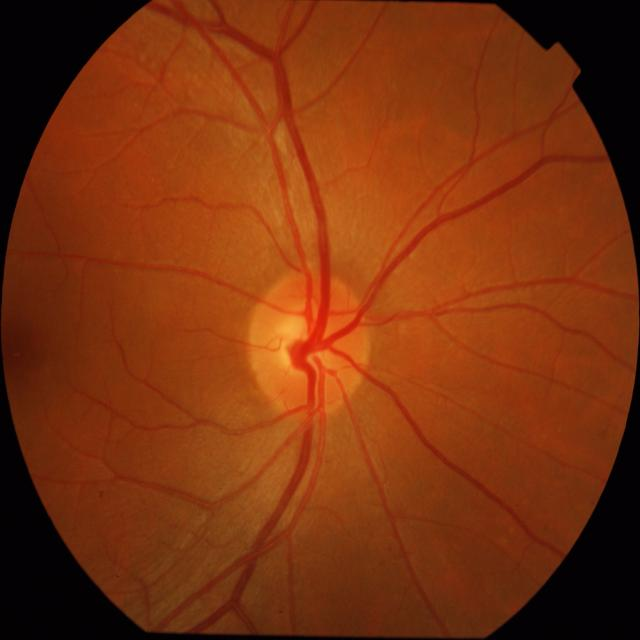OC: (276, 316, 324, 375)
OD: (247, 271, 370, 419)
